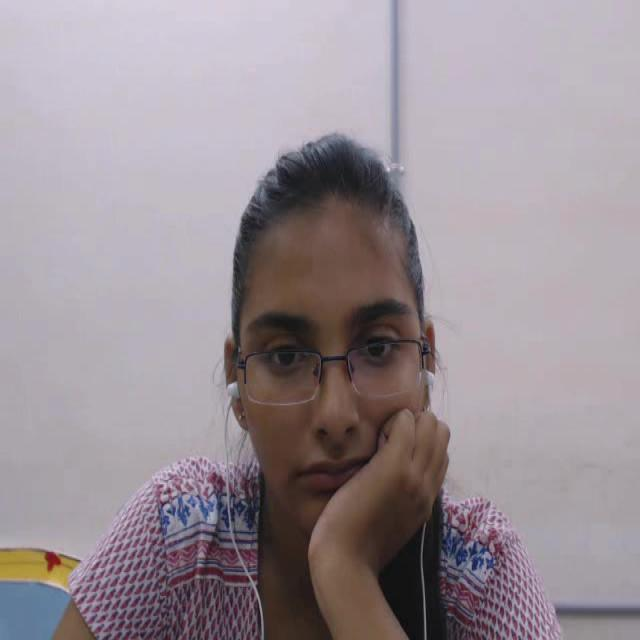Bored: (210, 117, 461, 548)
